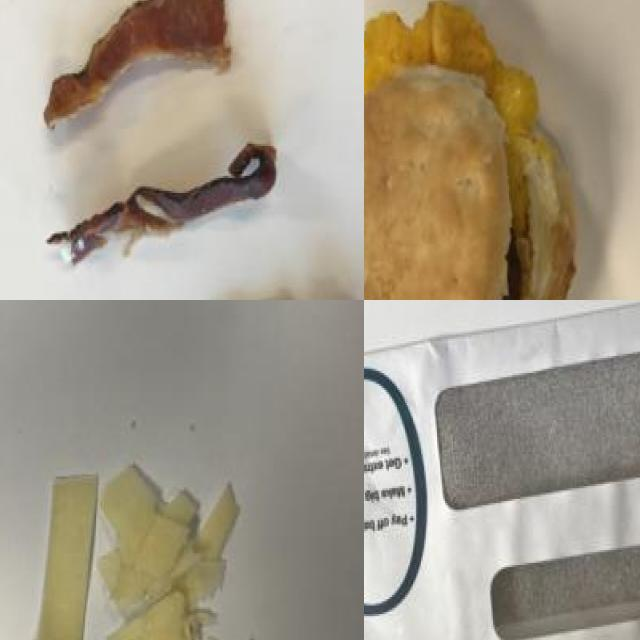compost: (17, 0, 364, 300), (364, 0, 594, 300), (4, 410, 267, 640)
paper: (364, 319, 640, 640)
